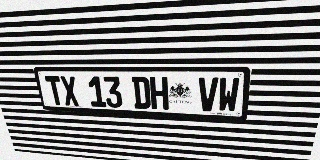1: (87, 76, 107, 107)
3: (103, 76, 123, 108)
D: (132, 77, 151, 109)
H: (150, 77, 169, 110)
T: (45, 76, 65, 106)
V: (198, 77, 219, 112)
W: (217, 77, 240, 113)
X: (59, 76, 80, 106)
